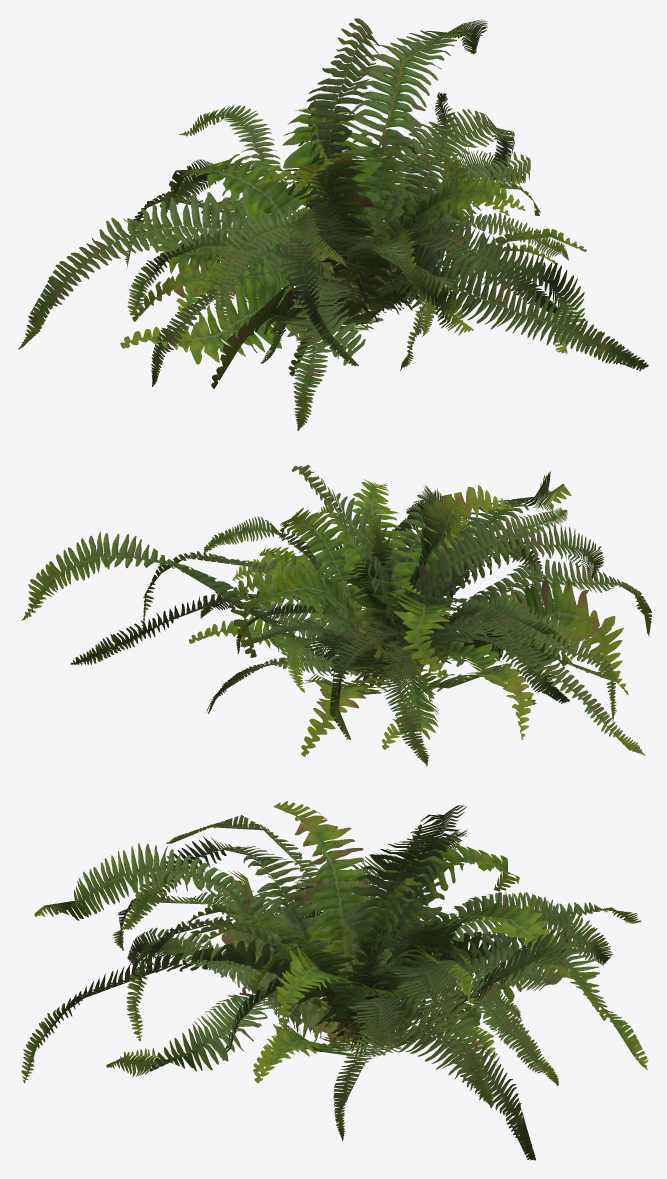
File: fern_02.glb
The picture shows the model from 3 angles, top to bottom: view 1: azimuth 30°, elevation 25°; view 2: azimuth 150°, elevation 25°; view 3: azimuth 270°, elevation 25°; orthographic projection. The views are drawn at different scales.
Parts seen in each view (by area): view 1: fern_02_b_lod0, fern_02_c_lod0, fern_02_a_lod0, fern_02_d_lod0; view 2: fern_02_b_lod0, fern_02_c_lod0, fern_02_d_lod0, fern_02_a_lod0; view 3: fern_02_b_lod0, fern_02_c_lod0, fern_02_a_lod0, fern_02_d_lod0.
Boxes of the visible parts, left/top/right/bottom form: fern_02_b_lod0: left=18, top=18, right=648, bottom=430; fern_02_c_lod0: left=120, top=96, right=586, bottom=376; fern_02_a_lod0: left=176, top=92, right=544, bottom=337; fern_02_d_lod0: left=141, top=143, right=557, bottom=363; fern_02_b_lod0: left=21, top=465, right=652, bottom=756; fern_02_c_lod0: left=70, top=485, right=628, bottom=765; fern_02_d_lod0: left=232, top=516, right=589, bottom=749; fern_02_a_lod0: left=203, top=516, right=536, bottom=713; fern_02_b_lod0: left=21, top=801, right=648, bottom=1140; fern_02_c_lod0: left=106, top=815, right=641, bottom=1160; fern_02_a_lod0: left=138, top=873, right=567, bottom=1086; fern_02_d_lod0: left=187, top=868, right=593, bottom=1072.
Size of what is drawn, in the model's own units: 0.989 by 0.4277 by 0.8938.
Materials: 1 (1 with a texture image).
